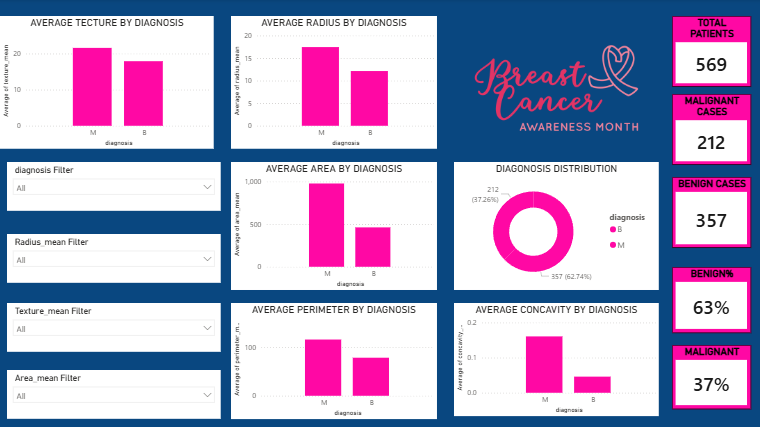

The dashboard page shown, as its layout file describes it:
{"tool":"powerbi","page":{"name":"Page 1","canvas":[1280,720],"ordinal":0},"visuals":[{"type":"cardVisual","title":"MALIGNANT","fields":{"Data":["breast-cancer-wisconsin-data.Malignant %"]},"box":[1128.8,581.2,132.7,107.5],"z":0},{"type":"donutChart","title":"DIAGONOSIS DISTRIBUTION","fields":{"Category":["breast-cancer-wisconsin-data.diagnosis"],"Y":["Count(breast-cancer-wisconsin-data.id)"]},"box":[762.6,273.8,344.4,215],"z":1000},{"type":"clusteredColumnChart","title":"AVERAGE AREA BY DIAGNOSIS","fields":{"Category":["breast-cancer-wisconsin-data.diagnosis"],"Y":["Avg(breast-cancer-wisconsin-data.area_mean)"]},"box":[388,273.8,346,215],"z":2000},{"type":"clusteredColumnChart","title":"AVERAGE PERIMETER BY DIAGNOSIS","fields":{"Category":["breast-cancer-wisconsin-data.diagnosis"],"Y":["Avg(breast-cancer-wisconsin-data.perimeter_mean)"]},"box":[388,510.7,346,194.9],"z":3000},{"type":"cardVisual","title":"BENIGN%","fields":{"Data":["breast-cancer-wisconsin-data.Benign %"]},"box":[1128.8,450.2,132.7,110.9],"z":4000},{"type":"cardVisual","title":"BENIGN CASES","fields":{"Data":["breast-cancer-wisconsin-data.Benign Cases"]},"box":[1128.8,299,132.7,119.3],"z":5000},{"type":"cardVisual","title":"MALIGNANT CASES","fields":{"Data":["breast-cancer-wisconsin-data.Malignant Cases"]},"box":[1128.8,159.6,132.7,119.3],"z":6000},{"type":"cardVisual","title":"TOTAL PATIENTS","fields":{"Data":["breast-cancer-wisconsin-data.Total Patients"]},"box":[1128.8,28.6,132.7,119.3],"z":7000},{"type":"image","box":[655.1,0,559.4,299],"z":8000},{"type":"clusteredColumnChart","title":"AVERAGE CONCAVITY BY DIAGNOSIS","fields":{"Category":["breast-cancer-wisconsin-data.diagnosis"],"Y":["Avg(breast-cancer-wisconsin-data.concavity_mean)"]},"box":[762.6,510.7,344.4,189.8],"z":9000},{"type":"slicer","fields":{"Values":["breast-cancer-wisconsin-data.diagnosis"]},"box":[11.8,273.8,359.5,82.3],"z":10000},{"type":"slicer","fields":{"Values":["breast-cancer-wisconsin-data.radius_mean"]},"box":[11.8,394.8,359.5,82.3],"z":11000},{"type":"slicer","fields":{"Values":["breast-cancer-wisconsin-data.texture_mean"]},"box":[11.8,510.7,359.5,82.3],"z":12000},{"type":"slicer","fields":{"Values":["breast-cancer-wisconsin-data.area_mean"]},"box":[11.8,623.2,359.5,82.3],"z":13000},{"type":"clusteredColumnChart","title":"AVERAGE TECTURE BY DIAGNOSIS","fields":{"Category":["breast-cancer-wisconsin-data.diagnosis"],"Y":["Avg(breast-cancer-wisconsin-data.texture_mean)"]},"box":[0,28.6,359.5,223.4],"z":14000},{"type":"clusteredColumnChart","title":"AVERAGE RADIUS BY DIAGNOSIS","fields":{"Category":["breast-cancer-wisconsin-data.diagnosis"],"Y":["Avg(breast-cancer-wisconsin-data.radius_mean)"]},"box":[388,28.6,346,223.4],"z":15000}]}

Visuals, with their boxes in screenshot pixels (x1, y1, x2, y2), scaled from the page's 1280x720 canvas onto the 760x427 screenshot:
"MALIGNANT" cardVisual: 670,345,749,408
"DIAGONOSIS DISTRIBUTION" donutChart: 453,162,657,290
"AVERAGE AREA BY DIAGNOSIS" clusteredColumnChart: 230,162,436,290
"AVERAGE PERIMETER BY DIAGNOSIS" clusteredColumnChart: 230,303,436,418
"BENIGN%" cardVisual: 670,267,749,333
"BENIGN CASES" cardVisual: 670,177,749,248
"MALIGNANT CASES" cardVisual: 670,95,749,165
"TOTAL PATIENTS" cardVisual: 670,17,749,88
image: 389,0,721,177
"AVERAGE CONCAVITY BY DIAGNOSIS" clusteredColumnChart: 453,303,657,415
slicer - breast-cancer-wisconsin-data.diagnosis: 7,162,220,211
slicer - breast-cancer-wisconsin-data.radius_mean: 7,234,220,283
slicer - breast-cancer-wisconsin-data.texture_mean: 7,303,220,352
slicer - breast-cancer-wisconsin-data.area_mean: 7,370,220,418
"AVERAGE TECTURE BY DIAGNOSIS" clusteredColumnChart: 0,17,213,149
"AVERAGE RADIUS BY DIAGNOSIS" clusteredColumnChart: 230,17,436,149
